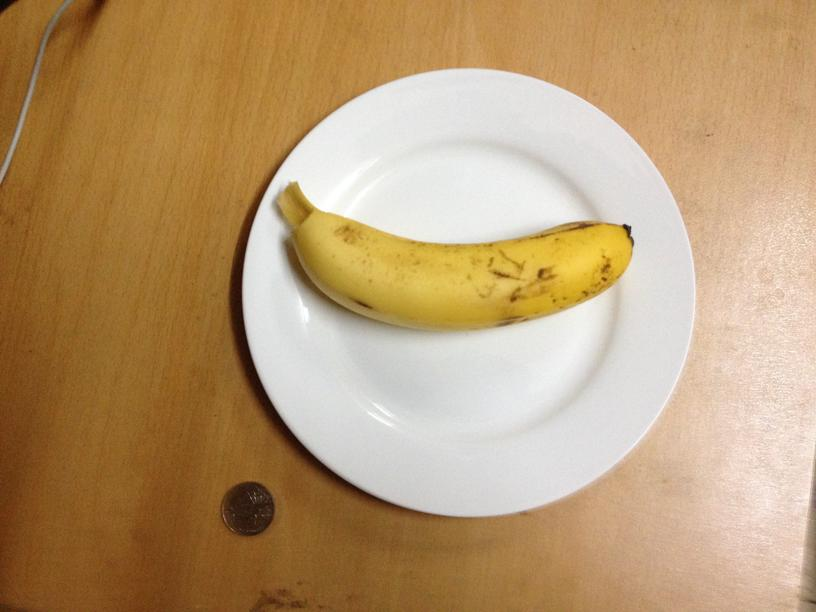banana: (284, 188, 633, 330)
coin: (218, 480, 276, 536)
